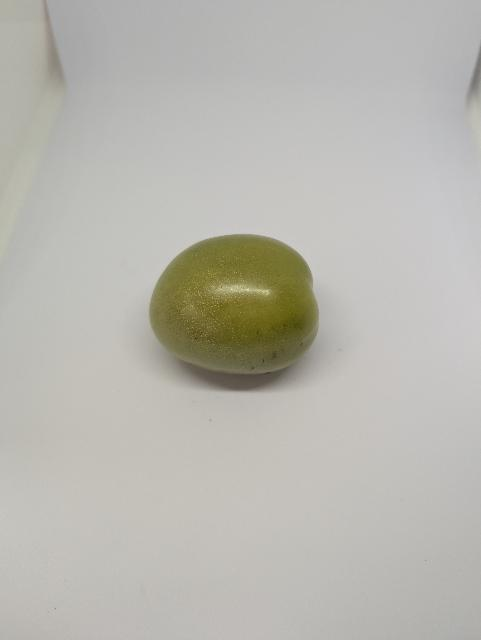green: (147, 233, 321, 377)
